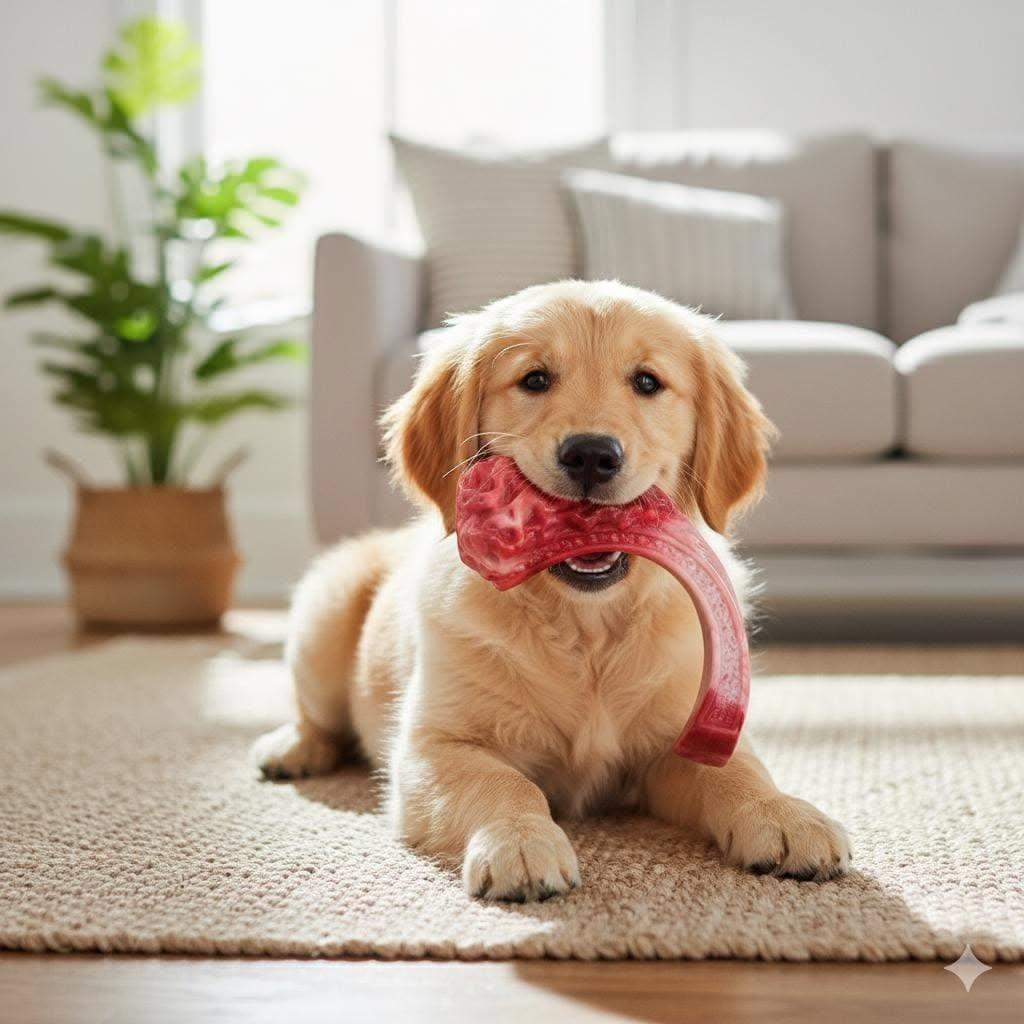puppy-dog: (217, 272, 863, 906)
